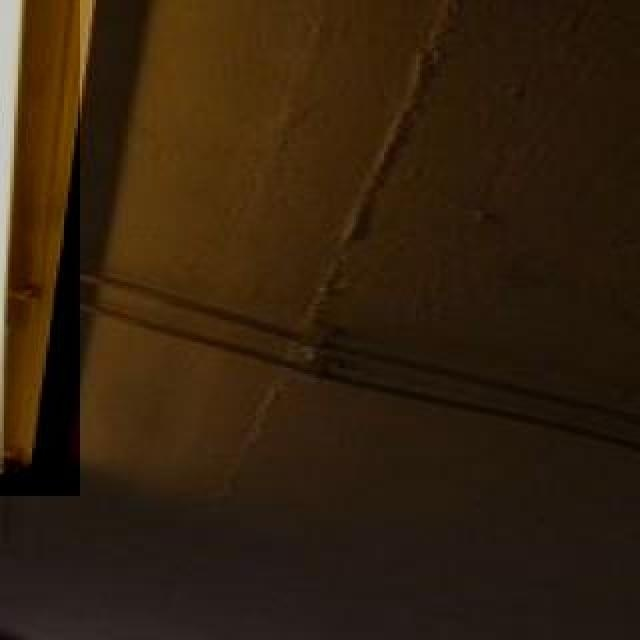fluorescent tube: (0, 0, 70, 494)
